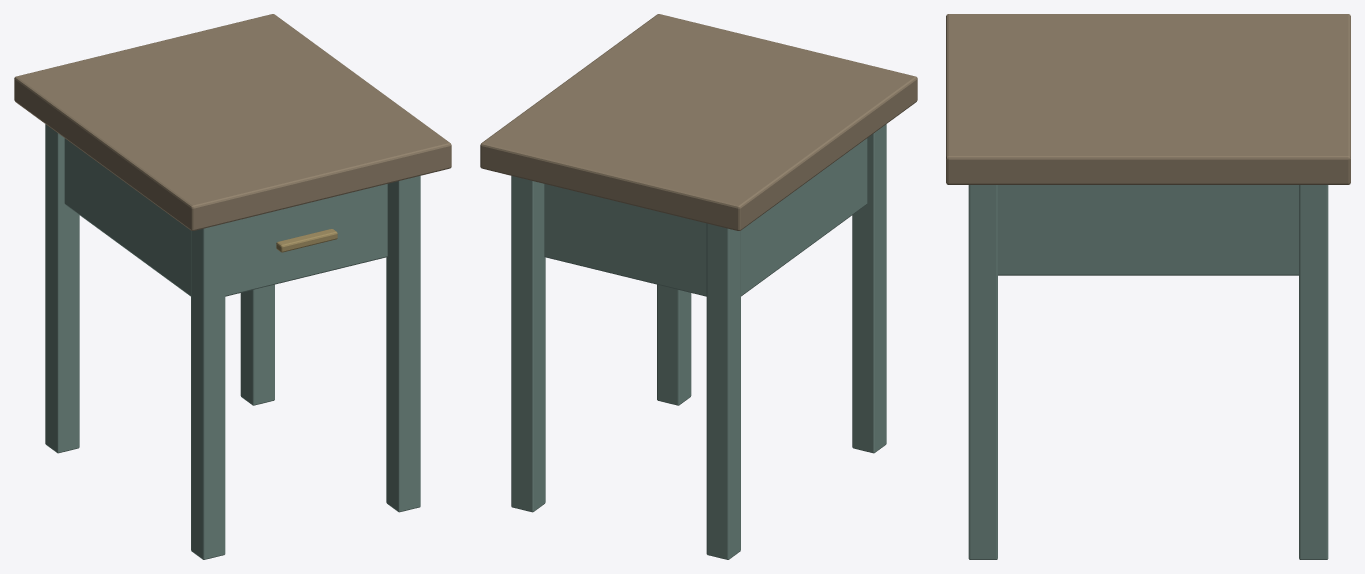
Rendered from workbench_finish.glb.
3 views of the same model, side by side, from view 1: azimuth 30°, elevation 25°; view 2: azimuth 150°, elevation 25°; view 3: azimuth 270°, elevation 25° (orthographic). The views are drawn at different scales.
Parts seen in each view (by area): view 1: workbench_finish_旧绿漆, workbench_finish_椅面旧木, workbench_finish_旧黄铜; view 2: workbench_finish_旧绿漆, workbench_finish_椅面旧木; view 3: workbench_finish_椅面旧木, workbench_finish_旧绿漆.
Boxes of the visible parts, box(x1,y1,x2,y2) form: workbench_finish_旧绿漆: box(45, 124, 420, 559); workbench_finish_椅面旧木: box(14, 14, 451, 230); workbench_finish_旧黄铜: box(276, 229, 337, 252); workbench_finish_旧绿漆: box(511, 124, 886, 559); workbench_finish_椅面旧木: box(480, 14, 917, 230); workbench_finish_椅面旧木: box(946, 14, 1350, 184); workbench_finish_旧绿漆: box(968, 185, 1328, 559).
Size of the model in its own units: 0.64 by 0.86 by 0.76.
